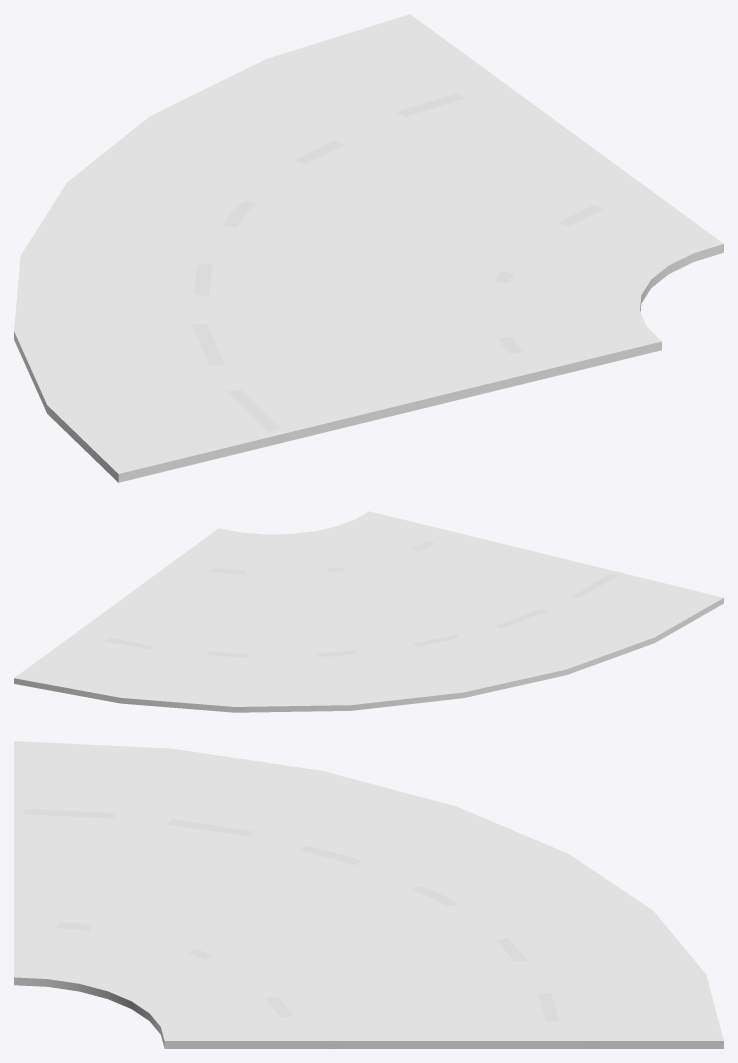
The model's file is bibeko-50-bocht-klein.FBX.
3 views of the same model, one above another, from view 1: azimuth 30°, elevation 25°; view 2: azimuth 150°, elevation 25°; view 3: azimuth 270°, elevation 25° (orthographic). The views are drawn at different scales.
Parts seen in each view (by area): view 1: bibeko-50-bocht-klein; view 2: bibeko-50-bocht-klein; view 3: bibeko-50-bocht-klein.
Part boxes in pixels (left/top/right/bottom): bibeko-50-bocht-klein: left=14, top=14, right=723, bottom=482; bibeko-50-bocht-klein: left=14, top=511, right=723, bottom=712; bibeko-50-bocht-klein: left=14, top=741, right=723, bottom=1048.
Bounding box in the file's own units: 325 × 3.94 × 325.
1 material, 1 textured.
